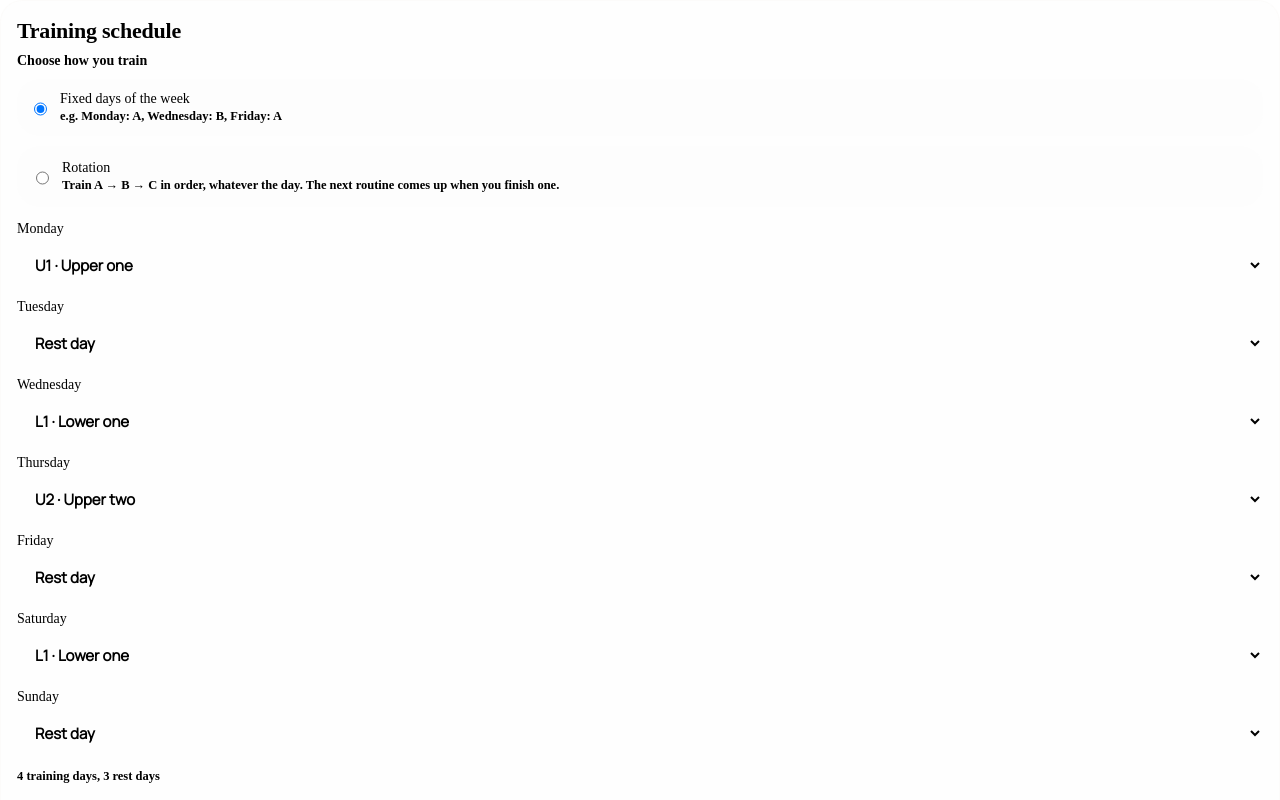
Test case: ScheduleEditor › confirms before a mode switch clears assignments and keeps them on cancel
Click the 2nd radio button at point(42, 178), box 36,162 -> 49,192
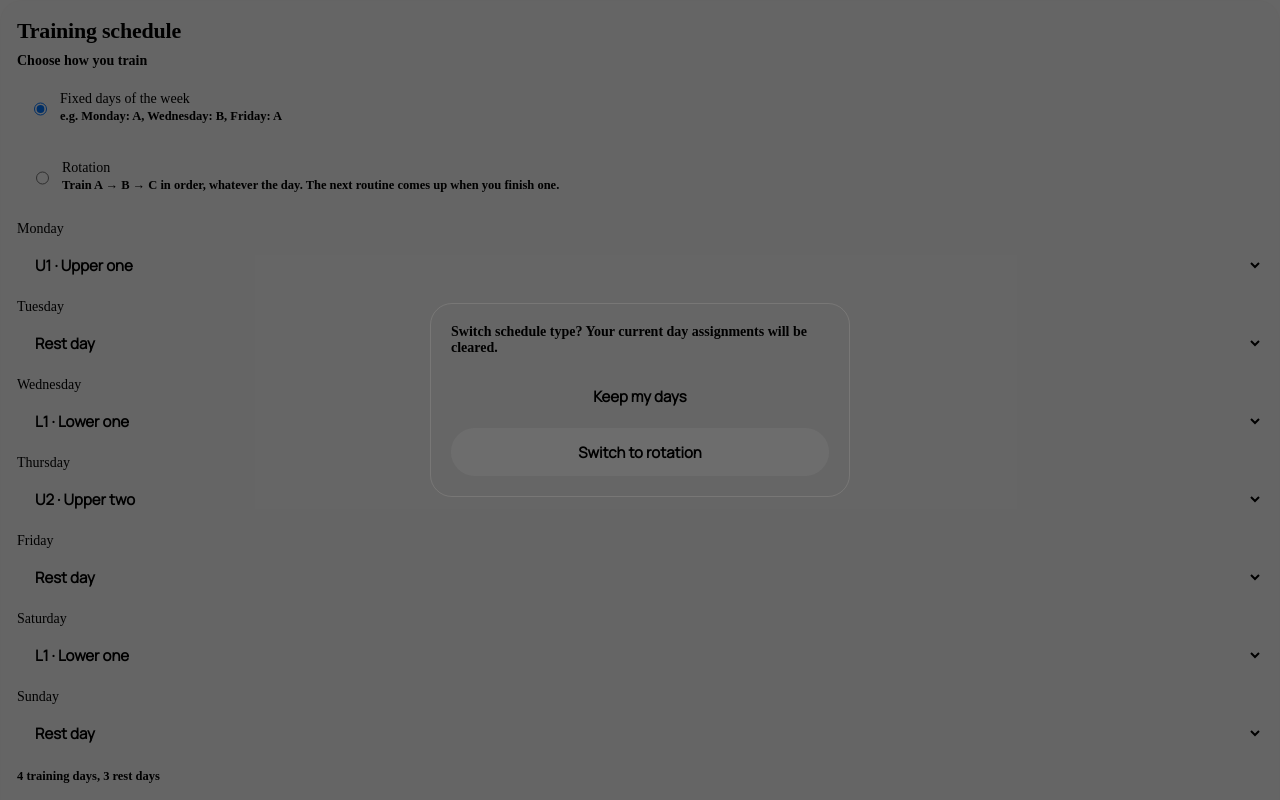
Check: the dialog shows "Switch schedule type? Your current day assignments will be cleared.", box 451,324 -> 807,355
Click the button "Keep my days" at point(640, 396), box 451,372 -> 829,420
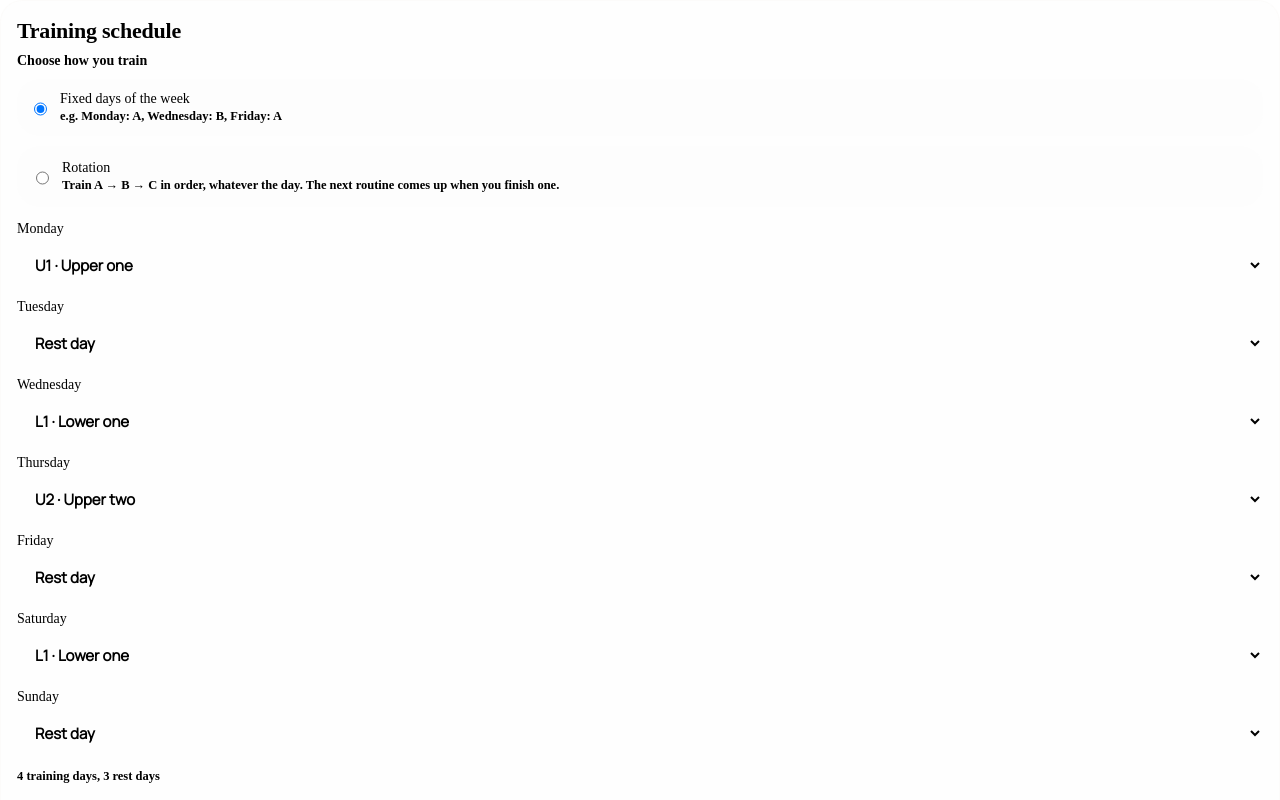
Check: the dropdown labelled "Monday" shows "U1 · Upper one", box 17,242 -> 1263,288
Click the 2nd radio button at point(42, 178), box 36,162 -> 49,192
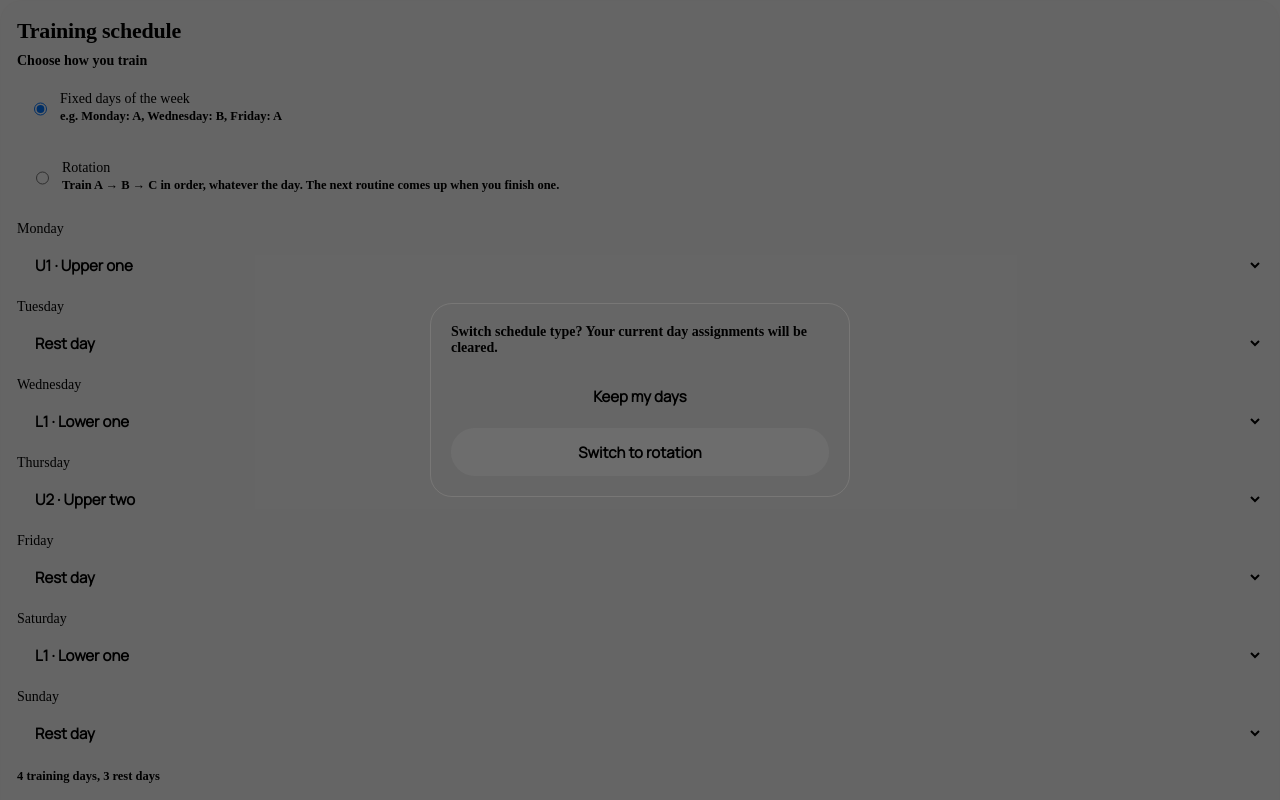
Click the button "Switch to rotation" at point(640, 452), box 451,428 -> 829,476
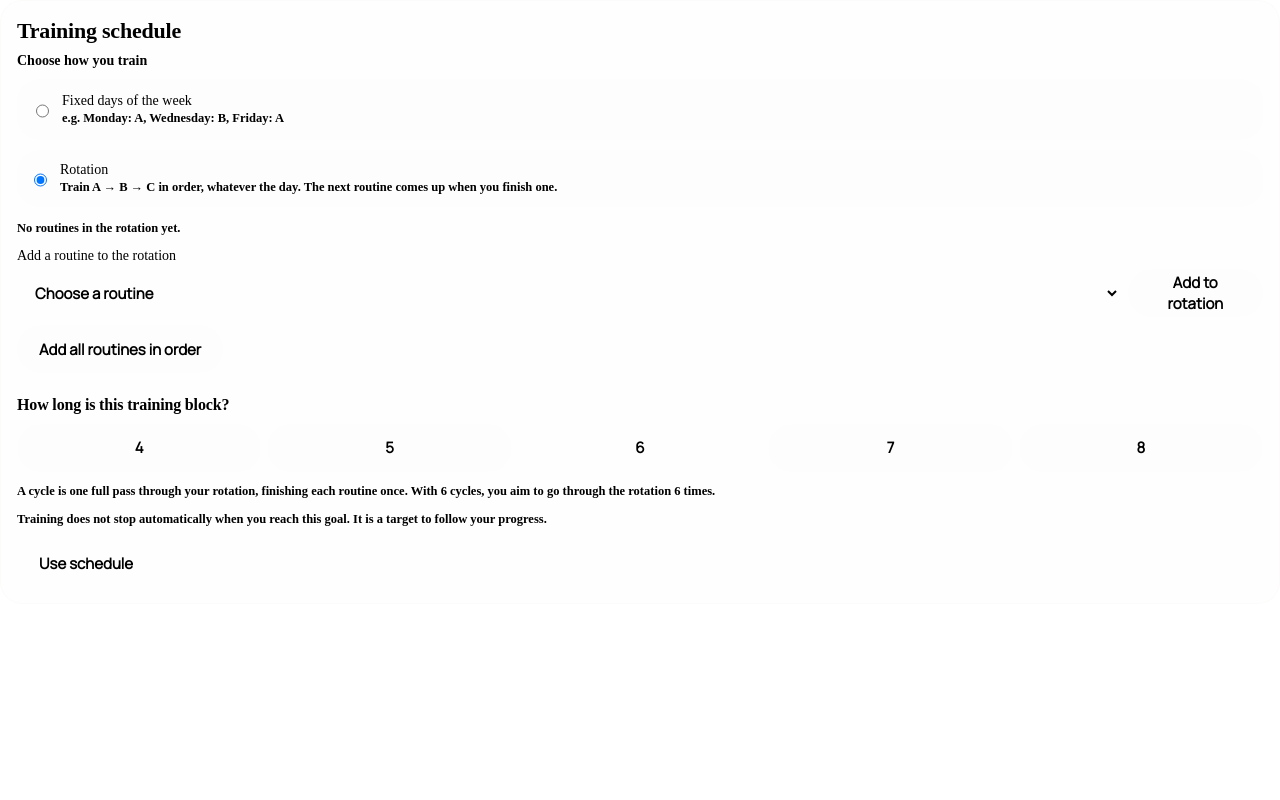
Check: the dialog is gone
